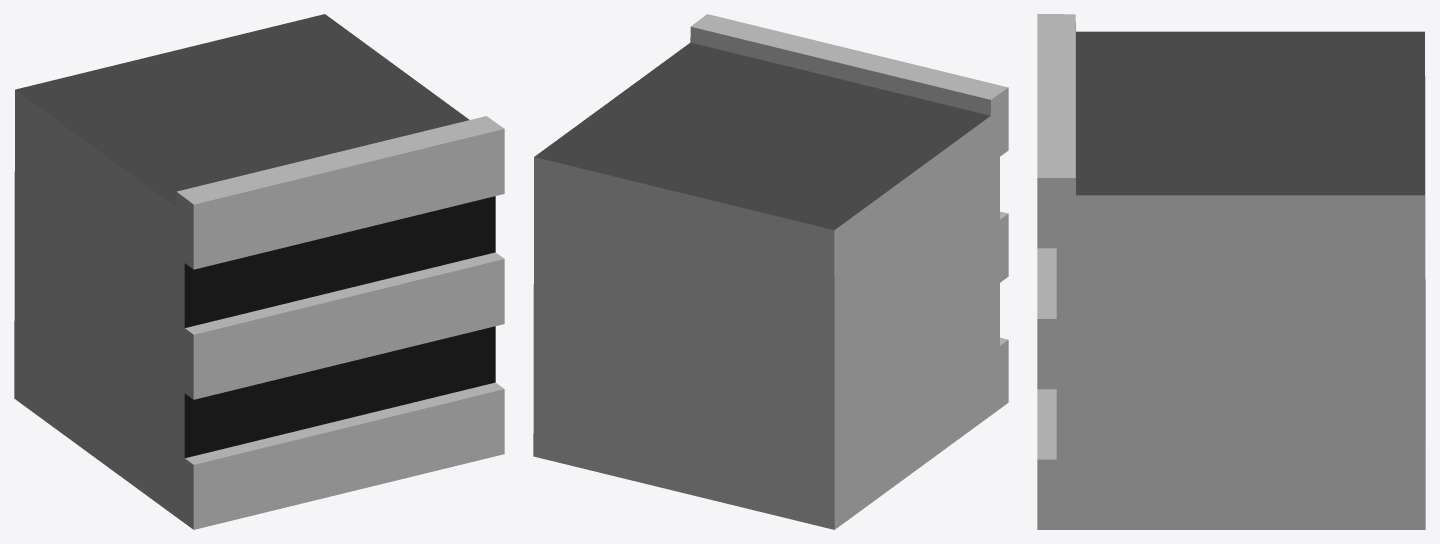
The model's file is Building-Side.fbx.
3 renders of one model, left to right at view 1: azimuth 30°, elevation 25°; view 2: azimuth 150°, elevation 25°; view 3: azimuth 270°, elevation 25°, orthographic. The views are drawn at different scales.
Parts seen in each view (by area): view 1: BuildingSide; view 2: BuildingSide; view 3: BuildingSide.
Boxes of the visible parts, left/top/right/bottom form: BuildingSide: left=14, top=14, right=504, bottom=529; BuildingSide: left=533, top=14, right=1008, bottom=529; BuildingSide: left=1037, top=14, right=1425, bottom=529.
Size of the model in its own units: 100 by 100 by 100.
